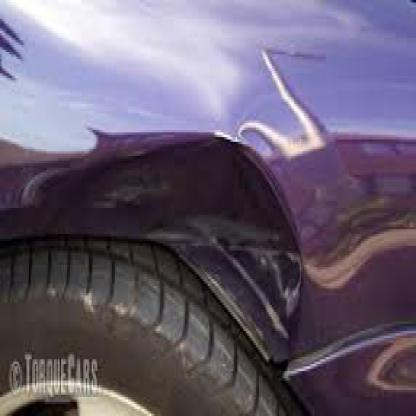dent: (89, 128, 286, 235), (224, 241, 300, 312)
